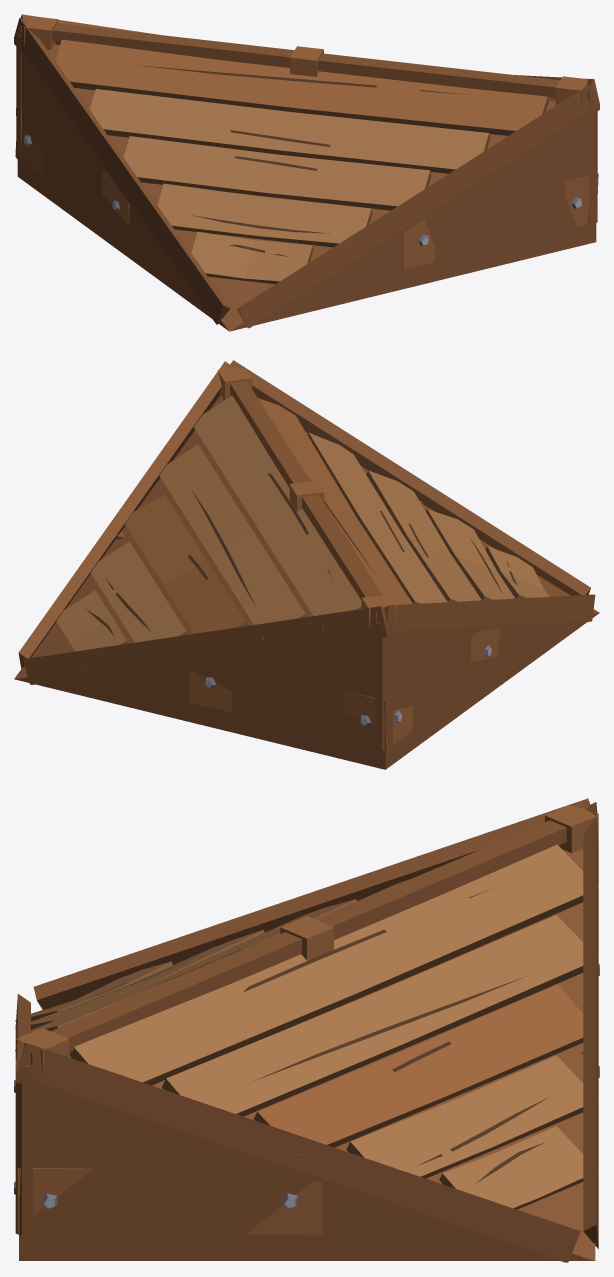
File: cone_plank_ridge.glb
The picture shows the model from 3 angles, top to bottom: view 1: azimuth 30°, elevation 25°; view 2: azimuth 150°, elevation 25°; view 3: azimuth 270°, elevation 25°; orthographic projection. The views are drawn at different scales.
Visible parts, largest first — view 1: Body; view 2: Body; view 3: Body.
Part boxes in pixels (x1,y1,x2,y2): Body: (14, 14, 599, 331); Body: (14, 360, 599, 769); Body: (14, 798, 599, 1262).
Bounding box in the file's own units: 4.01 × 1.65 × 4.01.
